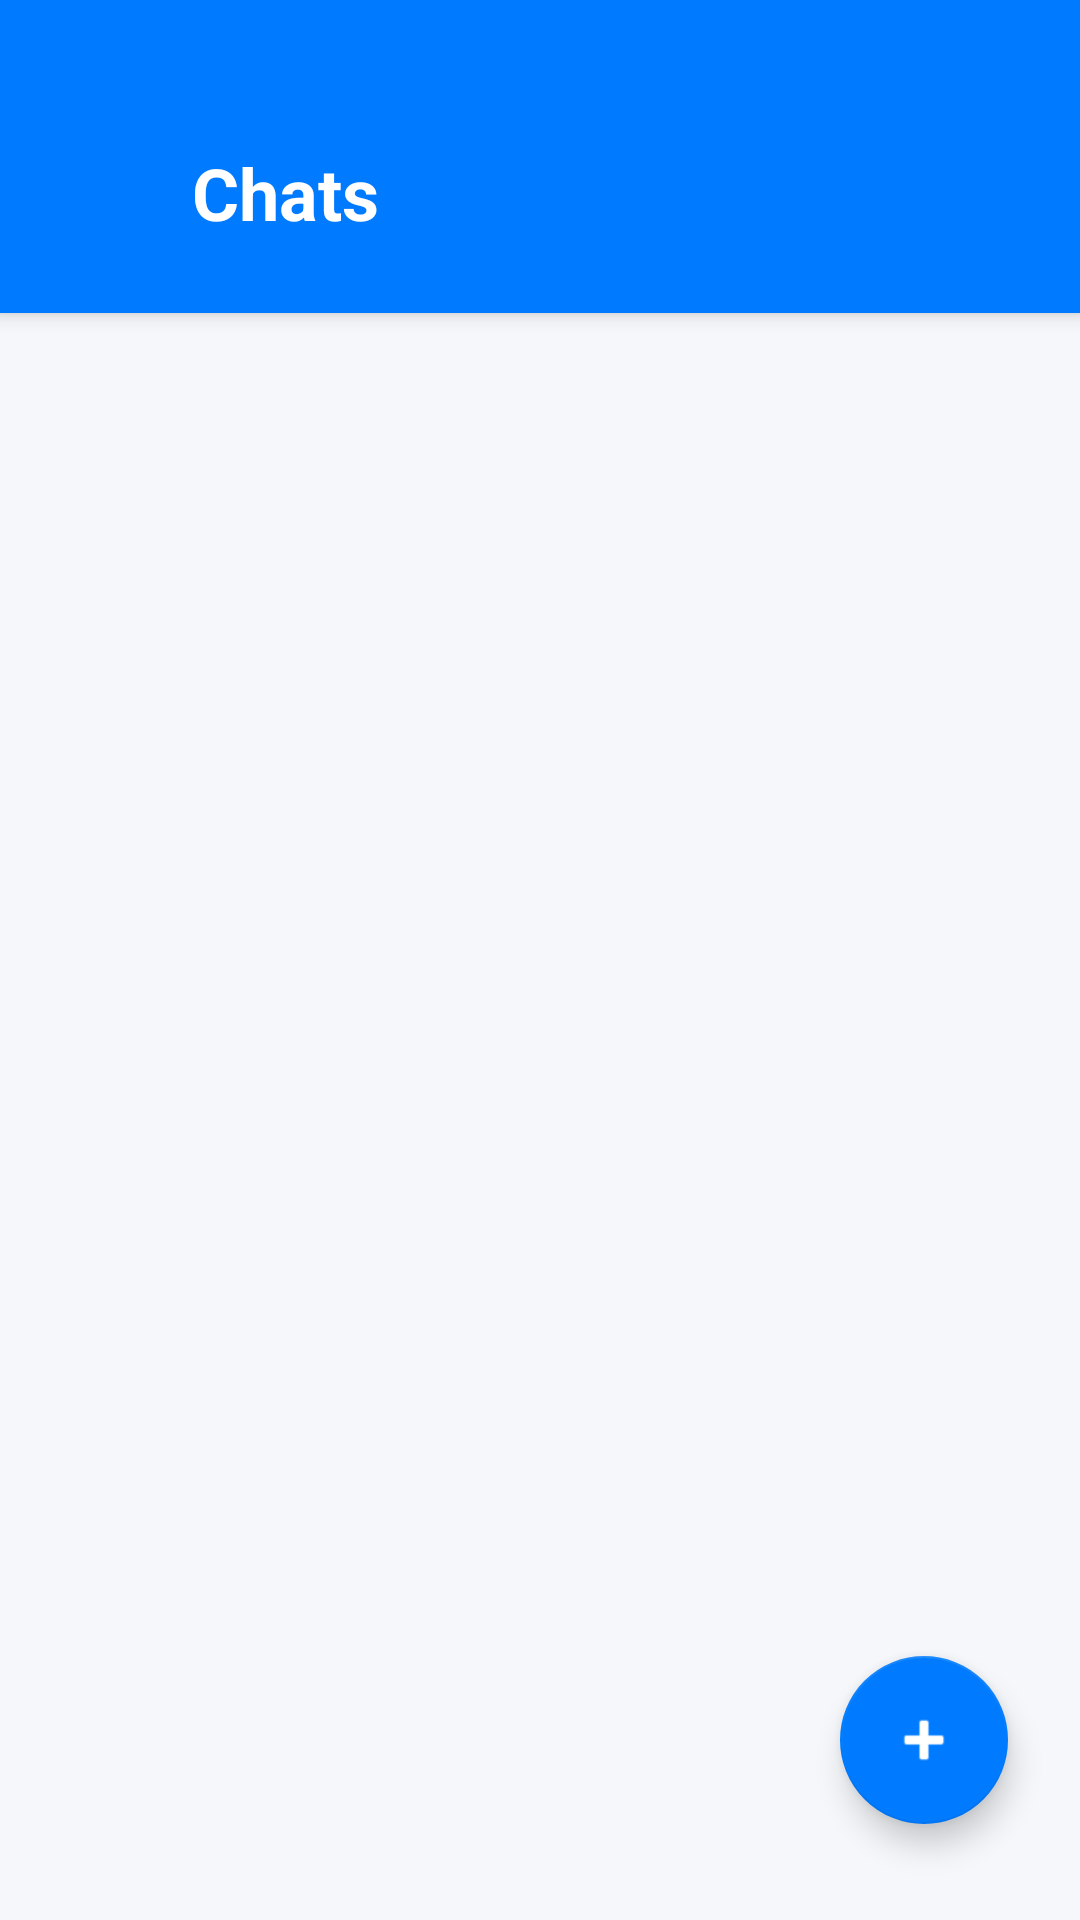

Where to tap for icons on this 1080px×1920px app screen, as [x,y]:
add: [924,1740]
